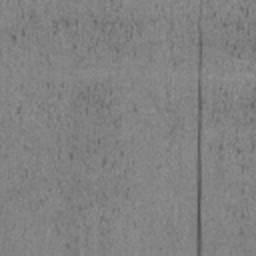Scratches: (196, 20, 204, 256)
